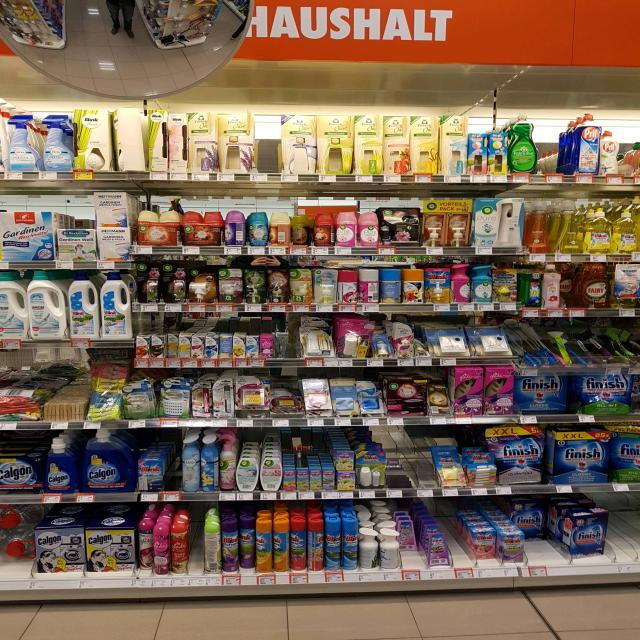empty: (536, 116, 570, 180), (605, 499, 640, 560), (252, 113, 283, 181), (451, 510, 478, 566), (184, 512, 207, 575), (167, 434, 182, 488)
